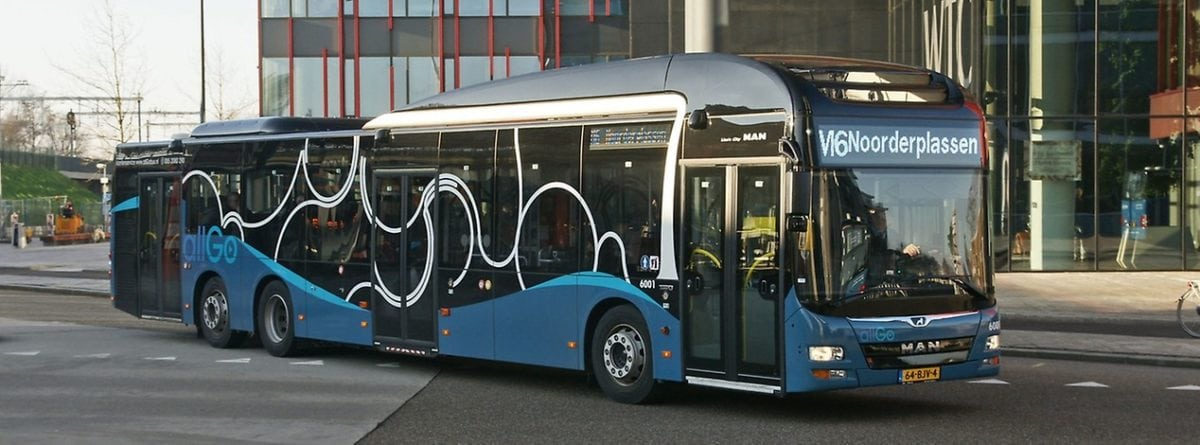bus: (110, 51, 1003, 406)
